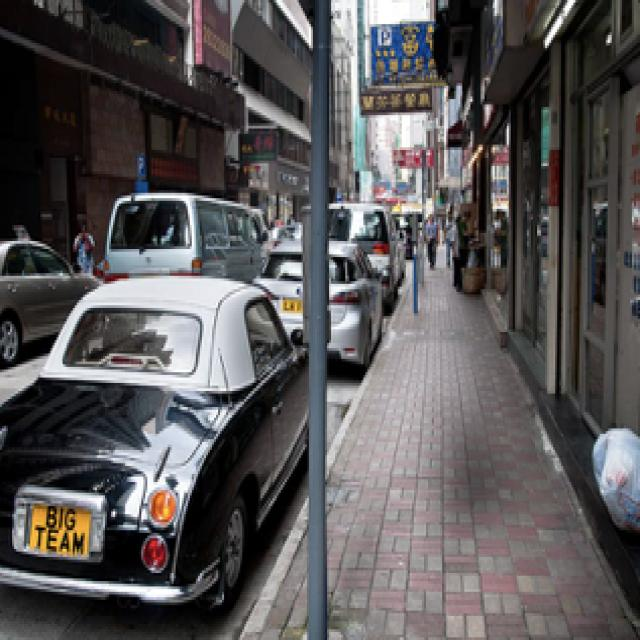license_plate: (22, 504, 97, 570)
